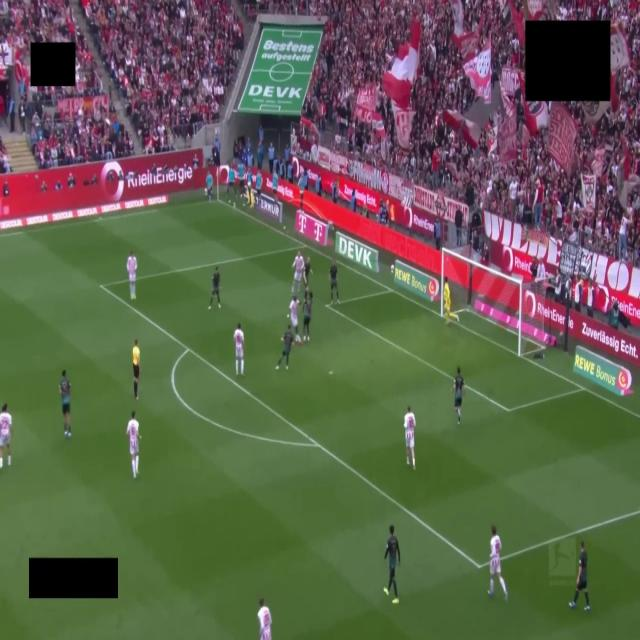player: (569, 541, 590, 611), (488, 526, 507, 599), (384, 525, 400, 604), (127, 411, 140, 479), (59, 370, 71, 438), (0, 404, 12, 469), (276, 325, 293, 369), (452, 367, 465, 424), (404, 407, 415, 470), (288, 295, 302, 343), (443, 277, 458, 320), (234, 323, 244, 375), (258, 599, 271, 639), (292, 252, 304, 295), (303, 290, 313, 341), (127, 251, 137, 300), (209, 267, 220, 310), (329, 260, 339, 303), (304, 256, 312, 287)
referee: (132, 339, 140, 399)
